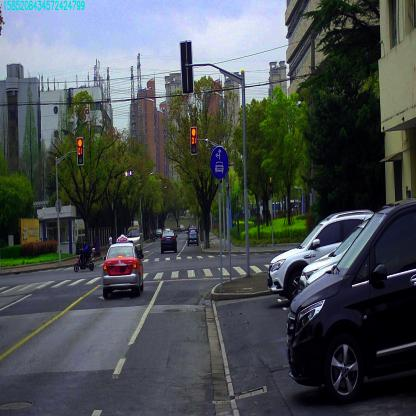traffic-light: (190, 127, 197, 154), (77, 138, 83, 164)
